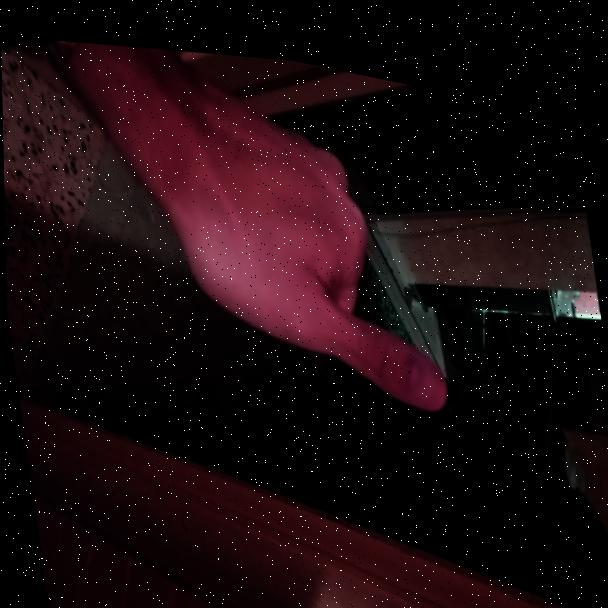five: (135, 26, 458, 438)
